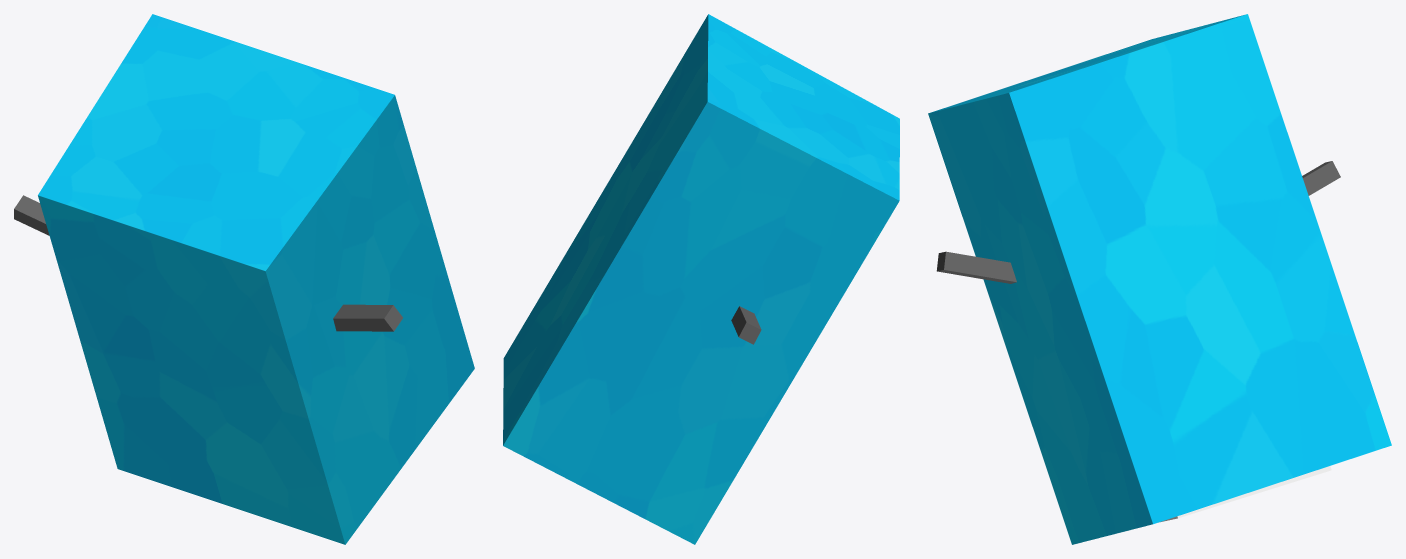
File: FrozenSnowman.fbx
3 views of the same model, side by side, from view 1: azimuth 30°, elevation 25°; view 2: azimuth 150°, elevation 25°; view 3: azimuth 270°, elevation 25° (orthographic). The views are drawn at different scales.
Visible parts, largest first — view 1: IceCube6, pCube8, pCube7; view 2: IceCube6, pCube7; view 3: IceCube6, pCube8, pCube7, pCube1.
Part boxes in pixels (x1,y1,x2,y2): IceCube6: (38, 14, 474, 544); pCube8: (333, 304, 402, 331); pCube7: (14, 195, 49, 235); IceCube6: (503, 14, 899, 544); pCube7: (731, 306, 761, 344); IceCube6: (928, 14, 1391, 544); pCube8: (936, 251, 1016, 283); pCube7: (1302, 161, 1340, 195); pCube1: (1160, 466, 1331, 522).
Bounding box in the file's own units: 1.76 × 1.89 × 1.65.
